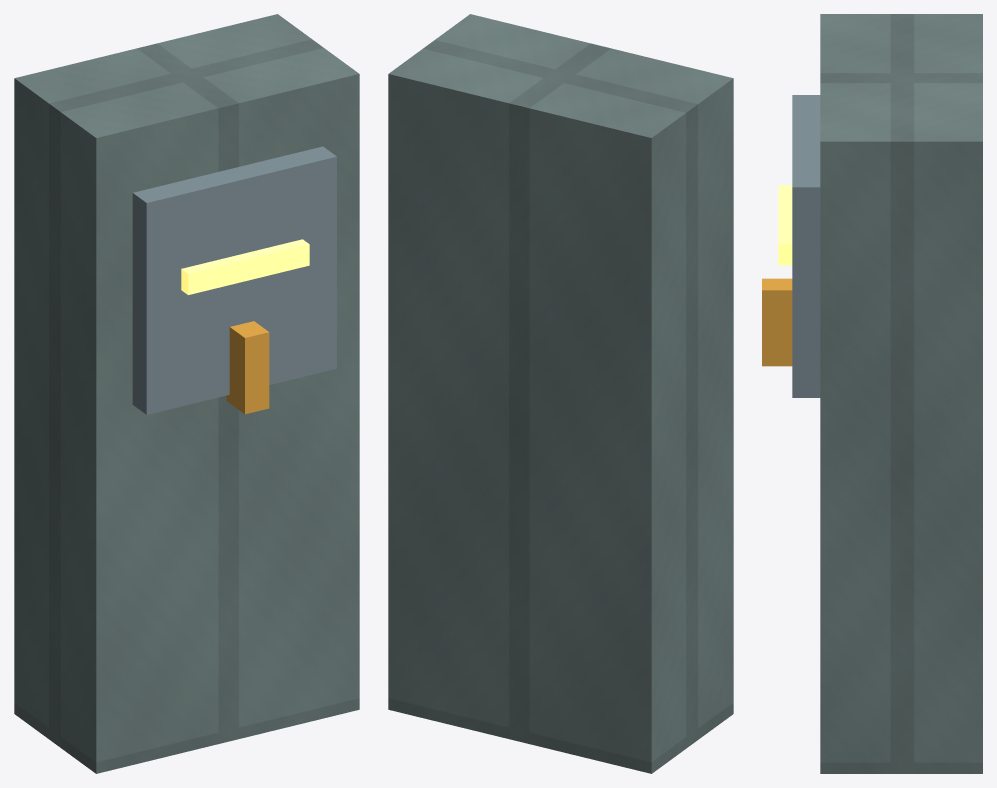
Rendered from Field_Breaker.glb.
3 renders of one model, left to right at view 1: azimuth 30°, elevation 25°; view 2: azimuth 150°, elevation 25°; view 3: azimuth 270°, elevation 25°, orthographic.
Visible parts, largest first — view 1: Field_Breaker; view 2: Field_Breaker; view 3: Field_Breaker.
Part boxes in pixels (bbox=[...]): Field_Breaker: bbox=[14, 14, 359, 773]; Field_Breaker: bbox=[388, 14, 733, 773]; Field_Breaker: bbox=[762, 14, 982, 773].
Bounding box in the file's own units: 0.65 × 1.5 × 0.475.
4 materials, 1 textured.
